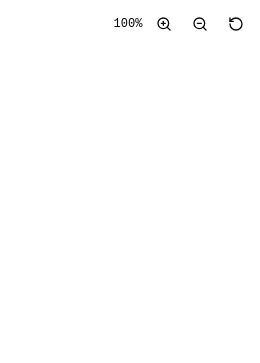
zoom dropdown opens and sets zoom to a preset
Press the mouse on the button named "Select zoom" at (128, 24), box 112,8 -> 144,40
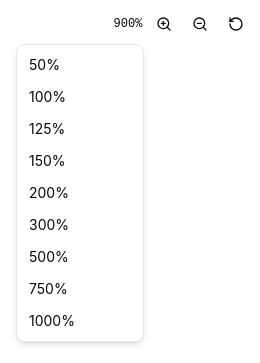
Expected: the menu item "50%" is shown, 29,56 -> 60,73
Click the menu item "200%" at (49, 192), box 29,184 -> 69,201
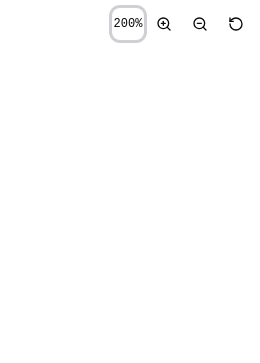
Expected: the button named "Select zoom" reads "200%", 112,8 -> 144,40
